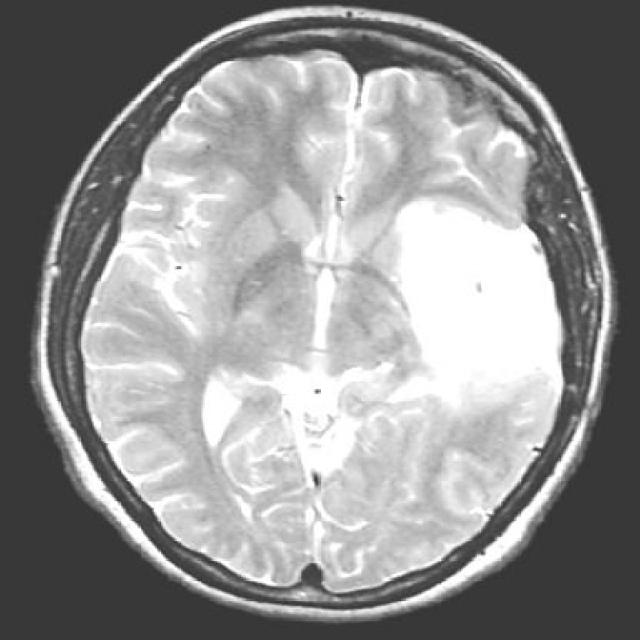Brain-Tumor: (380, 168, 580, 426)
